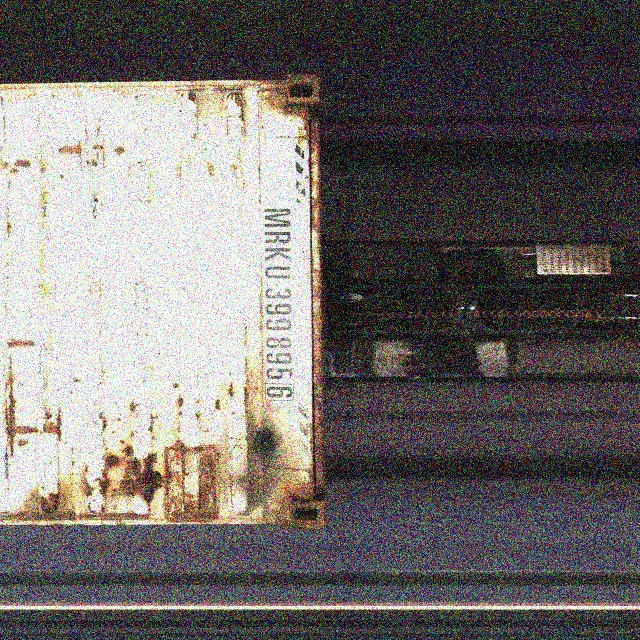Rusty: (90, 446, 223, 518), (245, 425, 296, 497), (5, 367, 32, 458), (29, 480, 78, 522), (60, 141, 134, 160), (4, 154, 34, 178)
